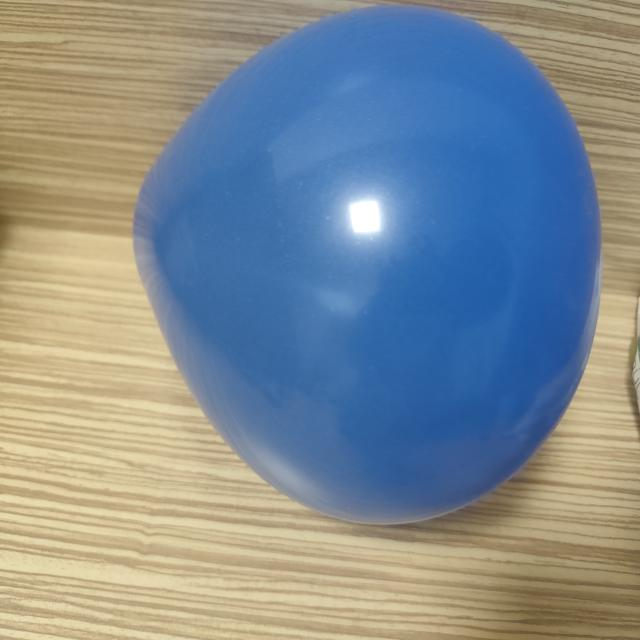balloon: (133, 6, 601, 523)
